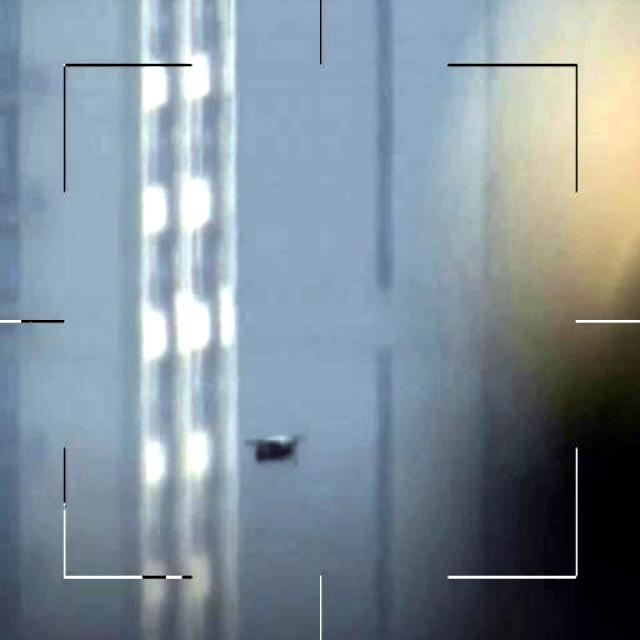bird: (252, 431, 304, 468)
